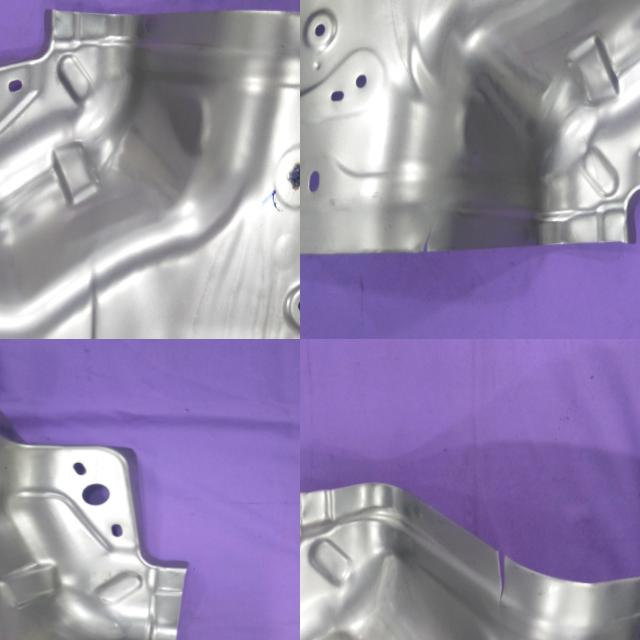Defect: (483, 530, 518, 615), (408, 201, 442, 268)
Healthy: (0, 0, 300, 339), (0, 339, 194, 640)
